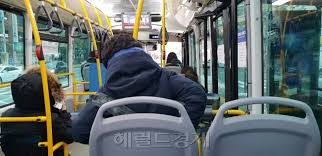seat: (218, 89, 317, 154)
